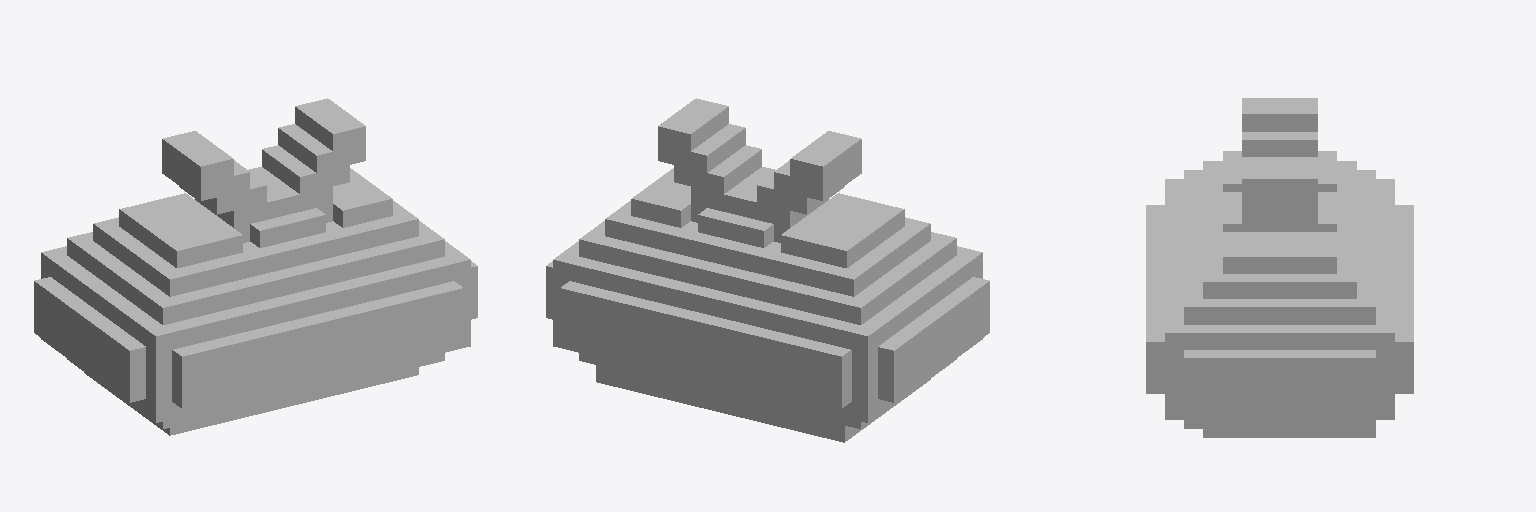
The model's file is arb.obj.
3 renders of one model, left to right at view 1: azimuth 30°, elevation 25°; view 2: azimuth 150°, elevation 25°; view 3: azimuth 270°, elevation 25°, orthographic.
Size of the model in its own units: 21 by 14 by 14.